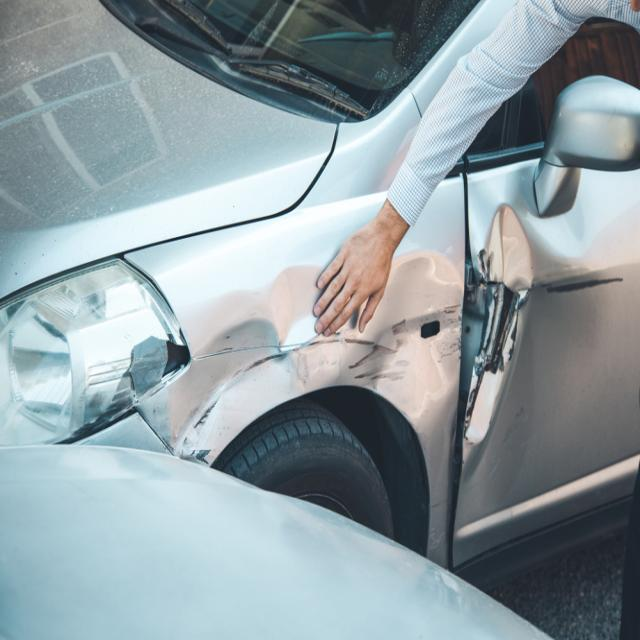dent: (163, 267, 342, 460), (461, 203, 595, 452), (369, 252, 462, 413)
